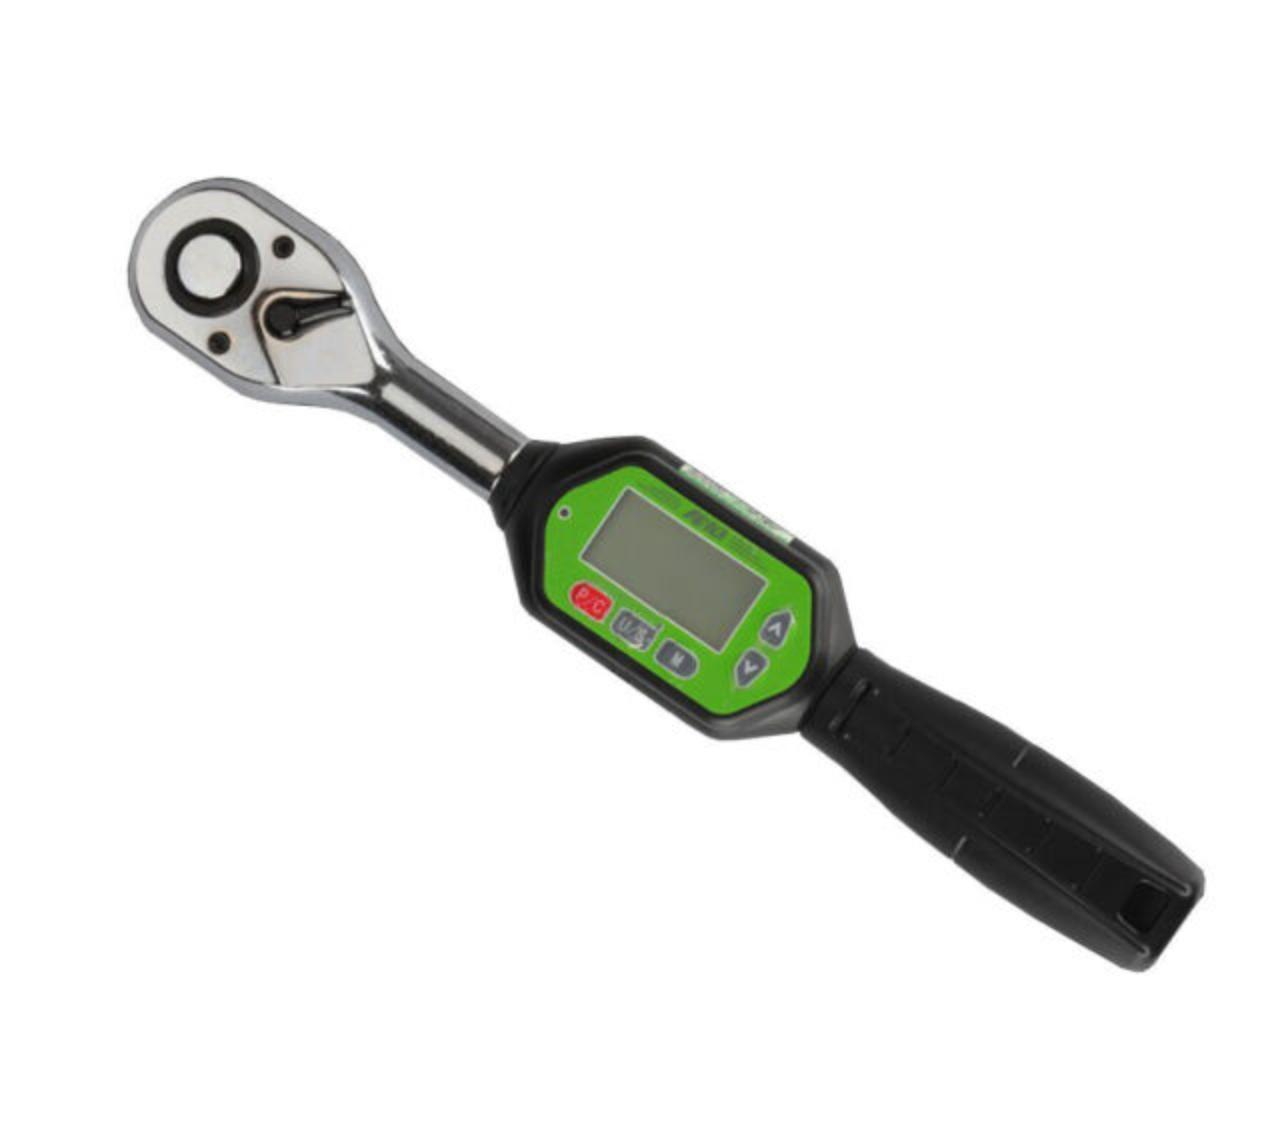Tool: (124, 170, 390, 413)
